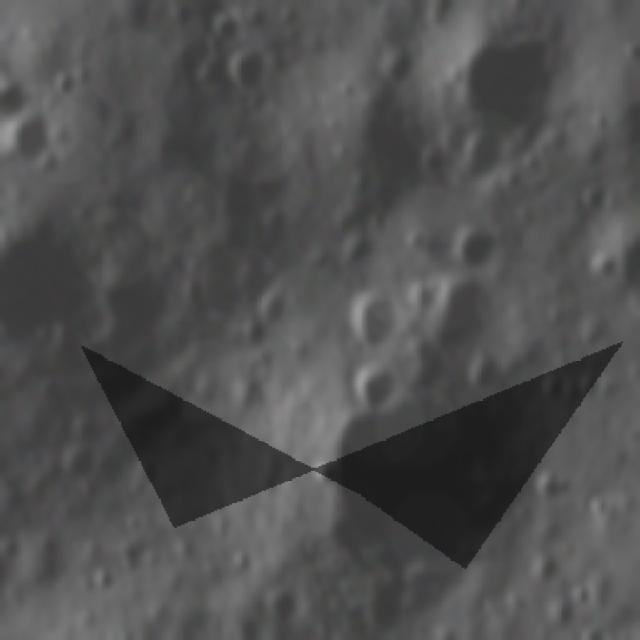crater: (324, 406, 508, 580), (462, 12, 572, 142), (428, 268, 506, 358), (354, 287, 412, 355), (453, 215, 510, 283), (454, 130, 508, 192), (5, 108, 57, 170), (353, 361, 399, 417), (230, 41, 272, 101), (256, 287, 306, 336), (261, 580, 304, 634), (533, 462, 572, 513), (77, 334, 120, 380), (533, 547, 573, 595), (219, 542, 261, 587), (578, 172, 616, 220), (63, 444, 102, 490), (580, 364, 618, 410), (582, 481, 620, 525), (87, 567, 127, 605), (0, 76, 28, 122), (550, 597, 579, 640), (539, 371, 566, 406)
